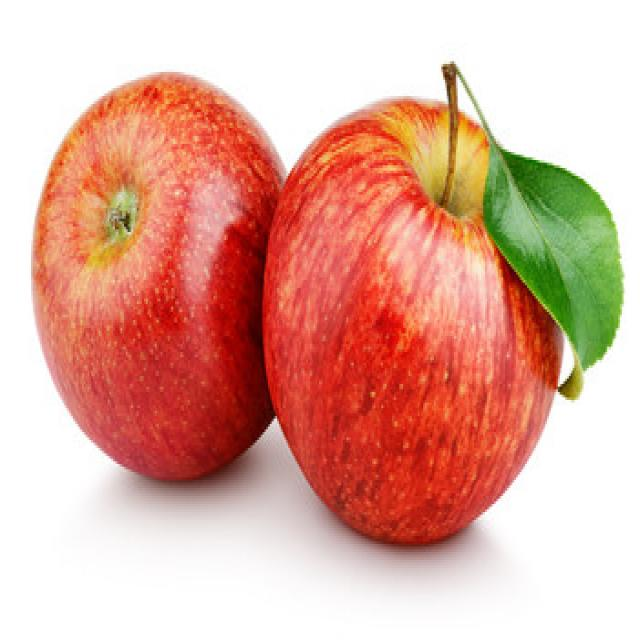apple: (265, 91, 607, 550), (32, 69, 297, 483)
